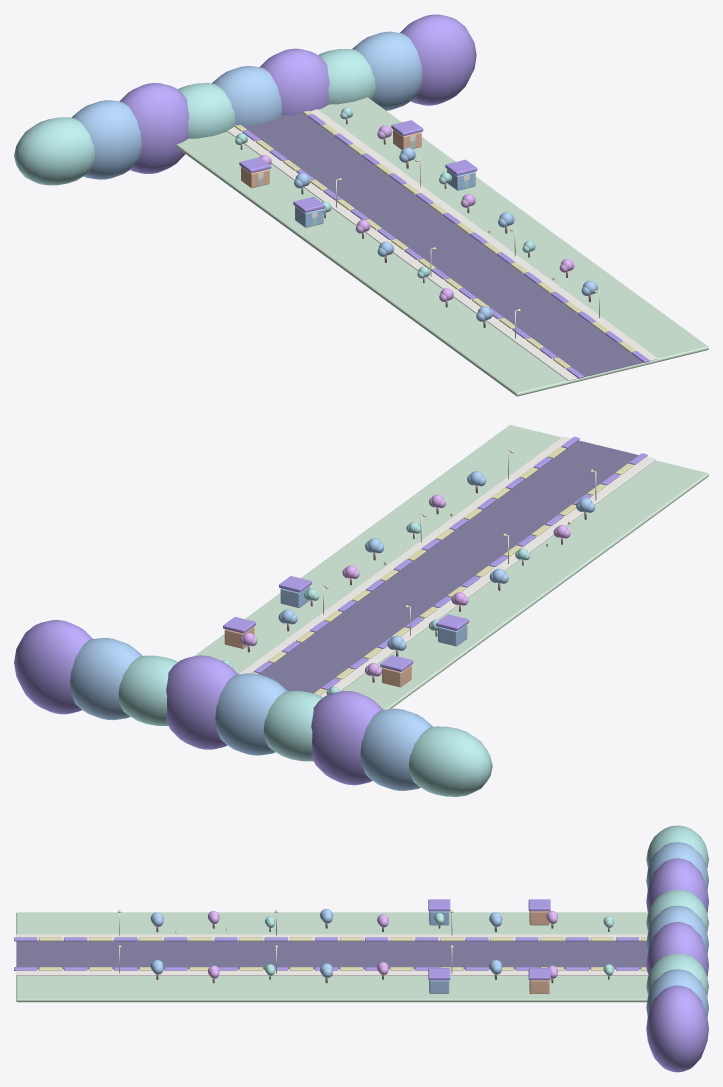
File: race-world.glb
3 renders of one model, top to bottom at view 1: azimuth 30°, elevation 25°; view 2: azimuth 150°, elevation 25°; view 3: azimuth 270°, elevation 25°, orthographic. The views are drawn at different scales.
Parts seen in each view (by area): view 1: RaceWorld_Export_grass, RaceWorld_Export_road, RaceWorld_Export_CarPaint, RaceWorld_Export_sky, RaceWorld_Export_mint, RaceWorld_Export_white, RaceWorld_Export_butter, RaceWorld_Export_orchid, RaceWorld_Export_peach; view 2: RaceWorld_Export_grass, RaceWorld_Export_road, RaceWorld_Export_CarPaint, RaceWorld_Export_sky, RaceWorld_Export_mint, RaceWorld_Export_white, RaceWorld_Export_butter, RaceWorld_Export_orchid, RaceWorld_Export_peach; view 3: RaceWorld_Export_grass, RaceWorld_Export_road, RaceWorld_Export_CarPaint, RaceWorld_Export_white, RaceWorld_Export_sky, RaceWorld_Export_mint, RaceWorld_Export_butter, RaceWorld_Export_orchid, RaceWorld_Export_peach.
Part boxes in pixels (x1,y1,x2,y2): RaceWorld_Export_grass: [176, 97, 708, 396]; RaceWorld_Export_road: [244, 113, 643, 376]; RaceWorld_Export_CarPaint: [119, 14, 649, 378]; RaceWorld_Export_sky: [72, 31, 598, 321]; RaceWorld_Export_mint: [14, 49, 553, 280]; RaceWorld_Export_white: [227, 109, 657, 380]; RaceWorld_Export_butter: [234, 110, 636, 368]; RaceWorld_Export_orchid: [259, 125, 574, 301]; RaceWorld_Export_peach: [241, 129, 554, 279]; RaceWorld_Export_grass: [195, 425, 708, 709]; RaceWorld_Export_road: [259, 440, 638, 693]; RaceWorld_Export_CarPaint: [14, 436, 647, 785]; RaceWorld_Export_sky: [70, 471, 595, 790]; RaceWorld_Export_mint: [118, 516, 569, 796]; RaceWorld_Export_white: [238, 436, 655, 697]; RaceWorld_Export_butter: [251, 447, 633, 695]; RaceWorld_Export_orchid: [240, 494, 570, 676]; RaceWorld_Export_peach: [224, 513, 570, 687]; RaceWorld_Export_grass: [16, 912, 648, 1002]; RaceWorld_Export_road: [16, 941, 647, 969]; RaceWorld_Export_CarPaint: [14, 858, 708, 1072]; RaceWorld_Export_white: [16, 909, 648, 982]; RaceWorld_Export_sky: [150, 842, 708, 1016]; RaceWorld_Export_mint: [226, 825, 708, 995]; RaceWorld_Export_butter: [39, 910, 647, 974]; RaceWorld_Export_orchid: [207, 911, 557, 978]; RaceWorld_Export_peach: [175, 911, 549, 993].
Bounding box in the file's own units: 78 × 14 × 111.
